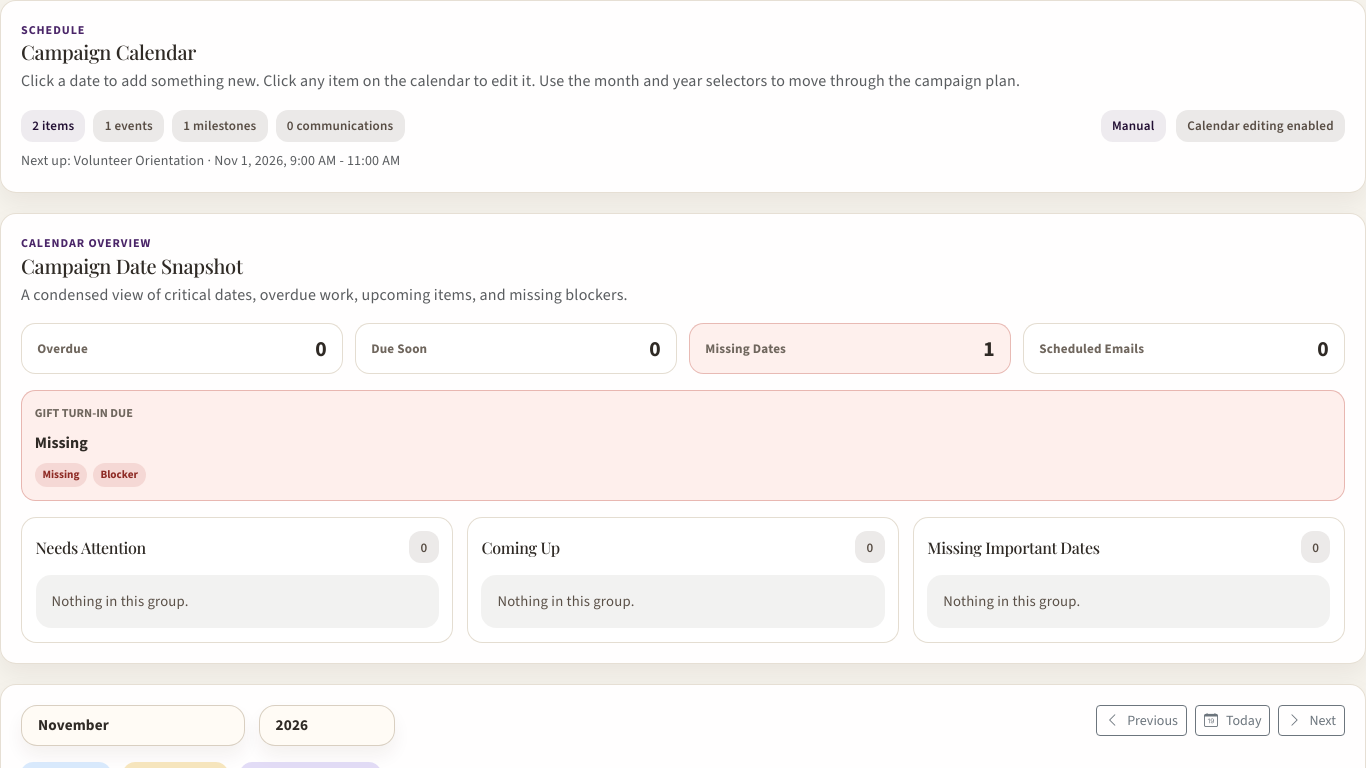
Test: CampaignStudioScheduleSection › opens the milestone editor from a missing critical date
The image size is (1366, 768).
Click the button "Gift Turn-In Due Missing Missing Blocker". click: click(84, 413)
box: top-left (21, 390), bottom-right (1345, 501)
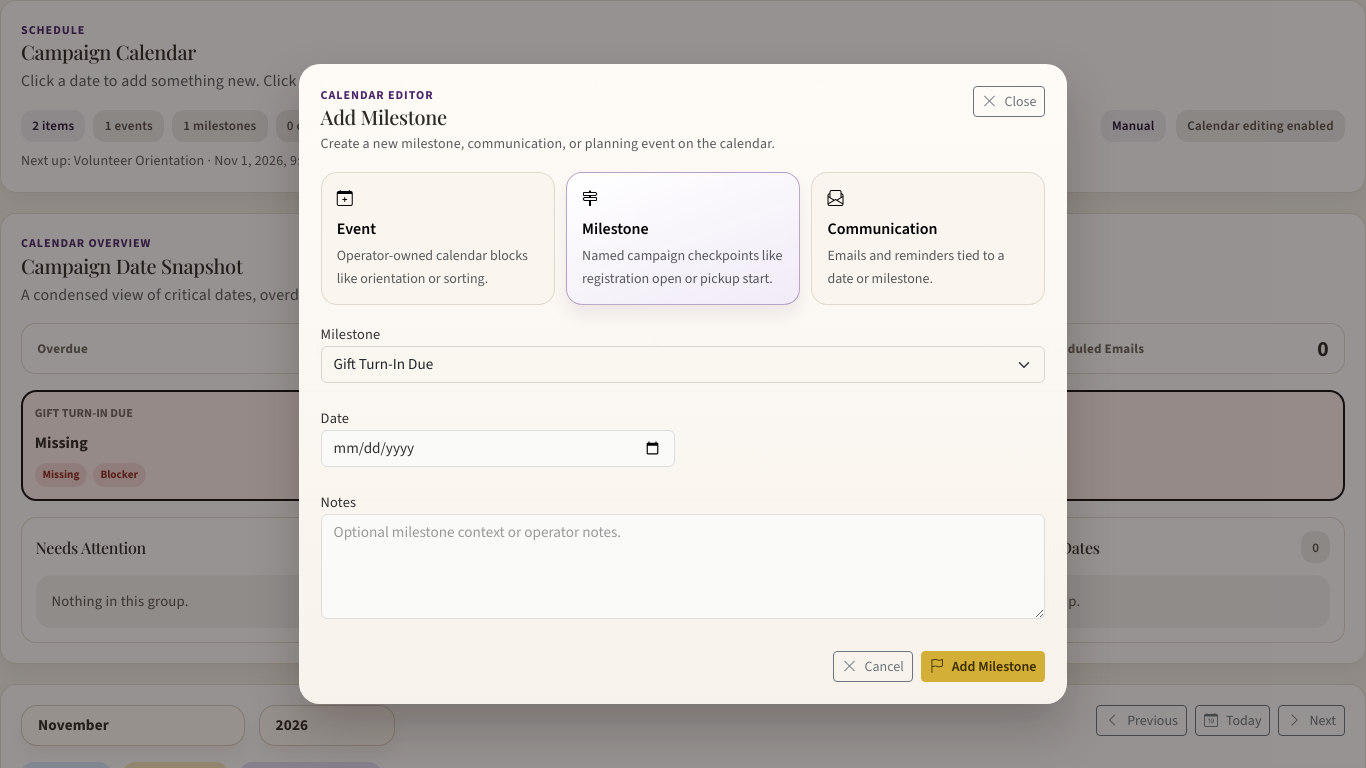
Expected: the heading "Add Milestone" is shown, top-left (321, 103), bottom-right (447, 130)
Expected: the dropdown labelled "Milestone" shows "Gift Turn-In Due", top-left (321, 346), bottom-right (1045, 383)
